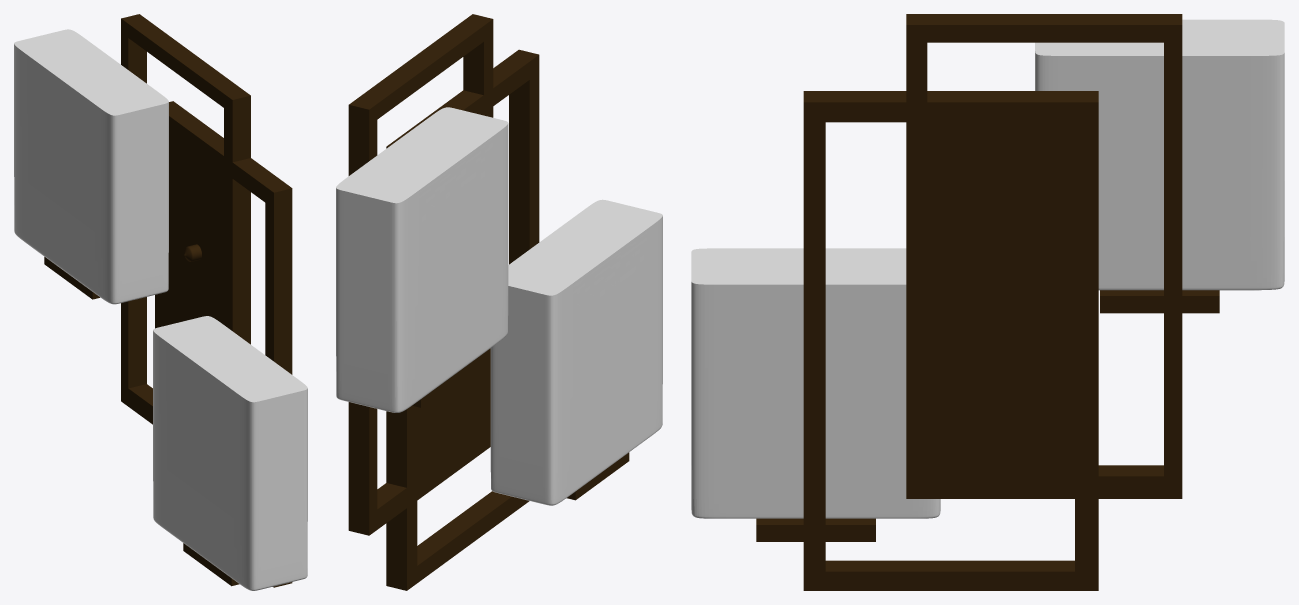
Rendered from wall_lamp.fbx.
3 views of the same model, side by side, from view 1: azimuth 30°, elevation 25°; view 2: azimuth 150°, elevation 25°; view 3: azimuth 270°, elevation 25° (orthographic). The views are drawn at different scales.
Parts seen in each view (by area): view 1: lights, frame; view 2: lights, frame; view 3: frame, lights.
Part boxes in pixels (x1,y1,x2,y2): lights: (14,29,307,590); frame: (44,14,292,587); lights: (336,107,662,505); frame: (348,14,629,590); frame: (756,14,1219,590); lights: (691,19,1284,518).
Size of the model in its own units: 130 by 650 by 618.
